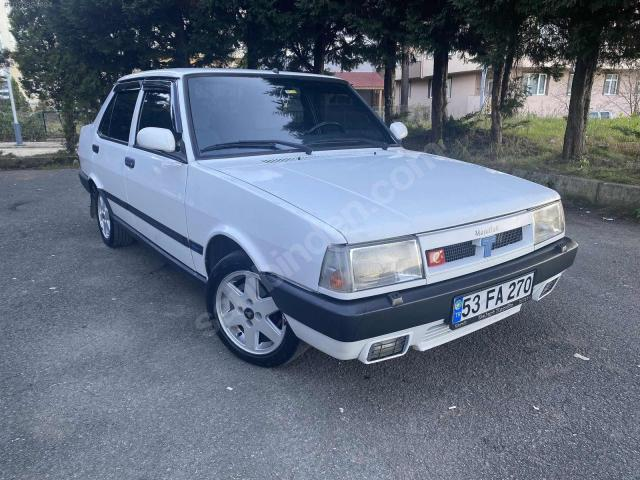plaka: (452, 272, 534, 327)
